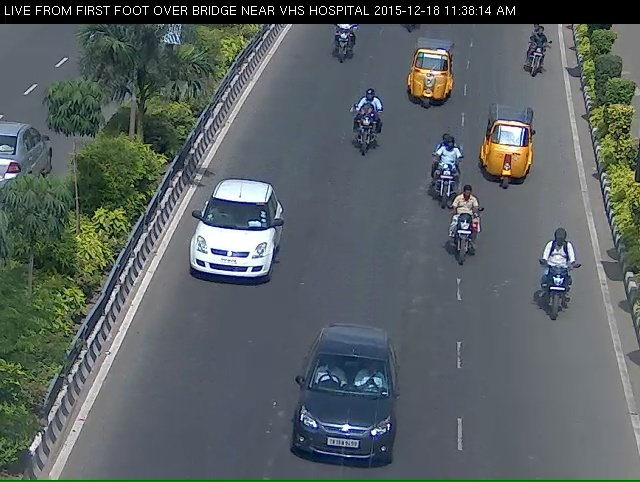Car: (287, 348, 404, 481), (190, 200, 278, 318), (475, 119, 552, 202), (403, 51, 461, 120)
Person: (542, 250, 585, 353), (449, 203, 485, 294), (318, 20, 364, 82), (428, 143, 459, 218), (350, 108, 380, 177), (525, 33, 549, 85)
